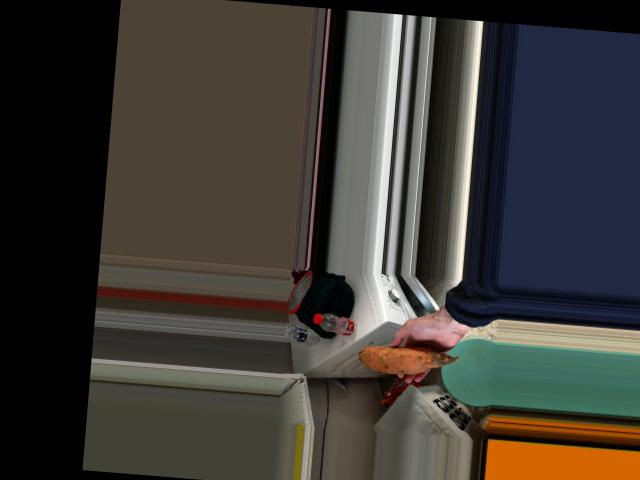sweet_potato: (349, 336, 438, 376)
